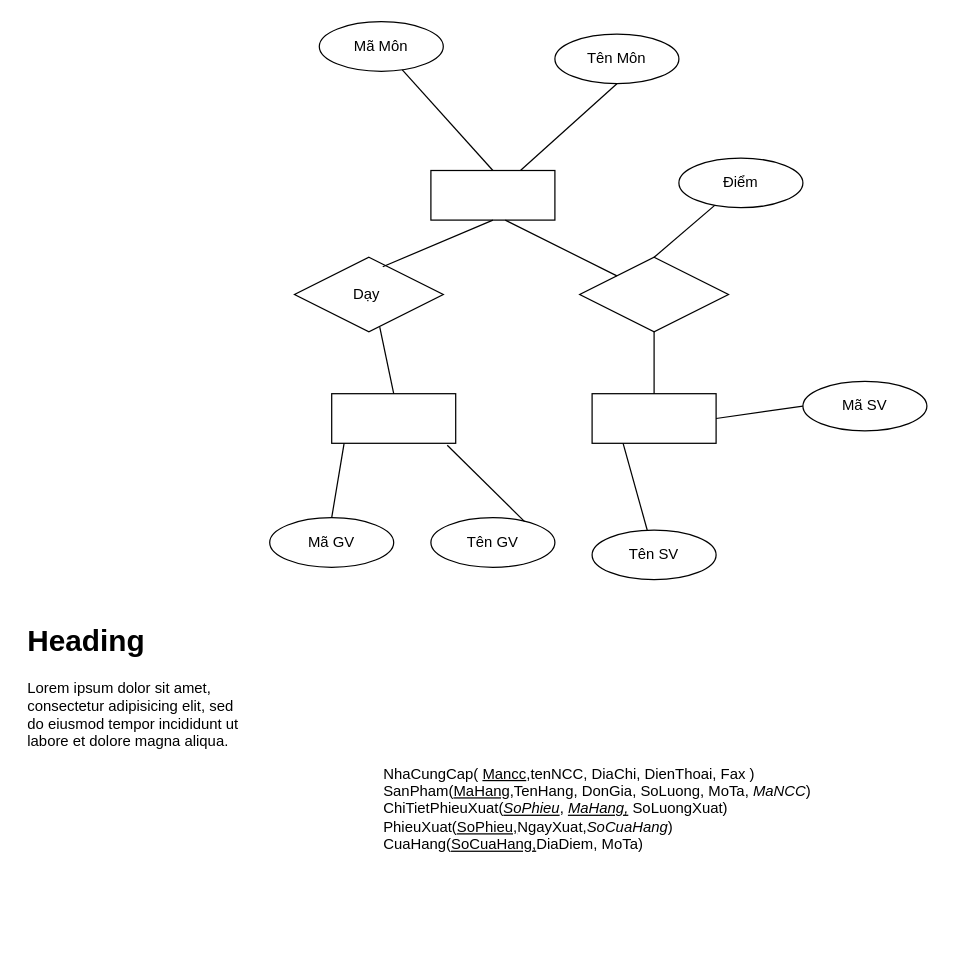
Some shapes in this 972 by 961 pixel diagram are drawn without their labels. The box of each missing label's shape, as (x1, y1, x2, y2) in pixels:
Giáo Viên: (330, 392, 456, 443)
Học: (578, 256, 728, 332)
Môn Học: (430, 169, 555, 220)
Sinh Viên: (591, 392, 716, 443)
